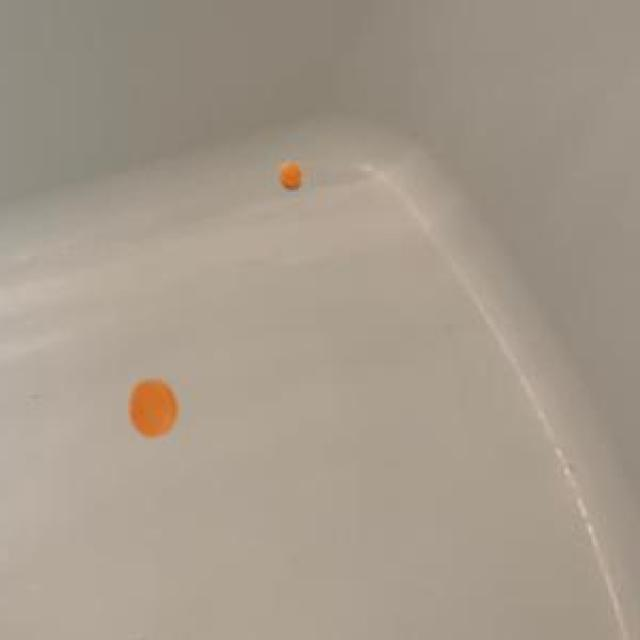Bactidol: (117, 368, 190, 458), (265, 146, 323, 202)
